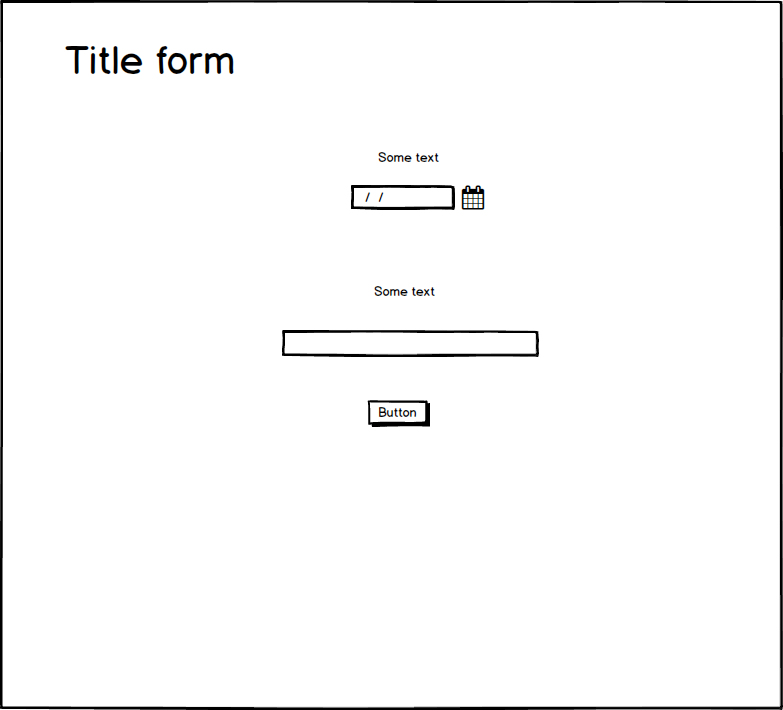button: (364, 394, 437, 430)
date_picker: (347, 177, 495, 218)
h1: (62, 28, 239, 81)
input: (279, 327, 544, 362)
label: (365, 280, 446, 303), (373, 144, 441, 165)
